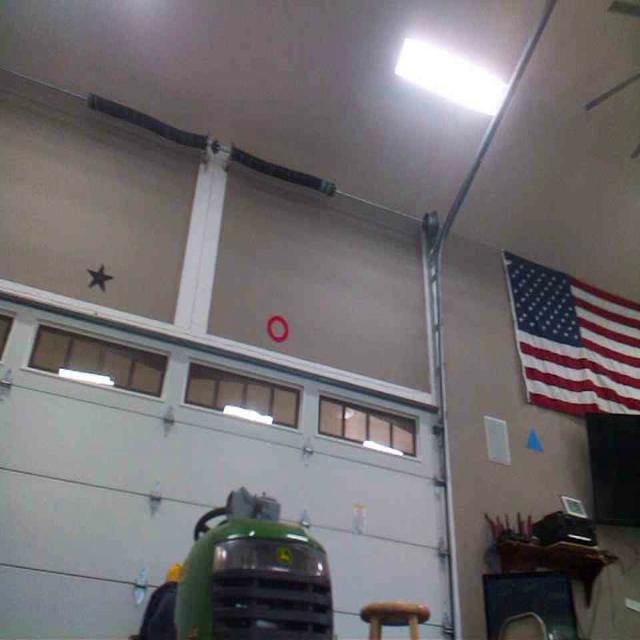ring_red: (266, 315, 289, 342)
star_black: (86, 263, 111, 292)
triangle_blue: (525, 428, 543, 452)
